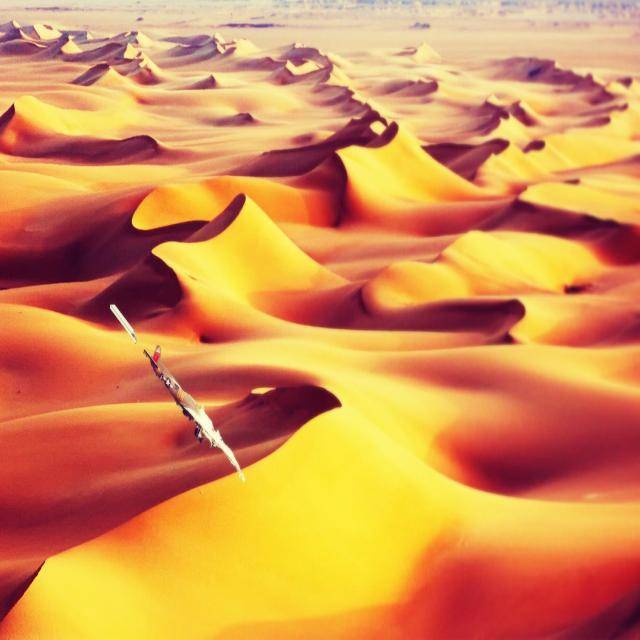airplane: (108, 298, 245, 486)
